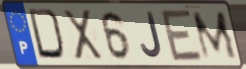6: (100, 10, 132, 61)
D: (26, 7, 68, 63)
E: (159, 8, 206, 63)
J: (139, 10, 165, 60)
M: (190, 9, 240, 62)
X: (61, 8, 106, 62)
